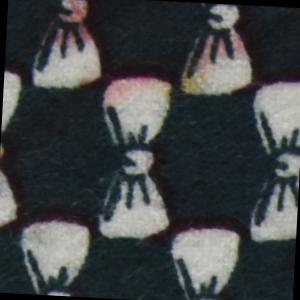Stain: (88, 68, 209, 118), (44, 1, 99, 54), (188, 30, 252, 71)
